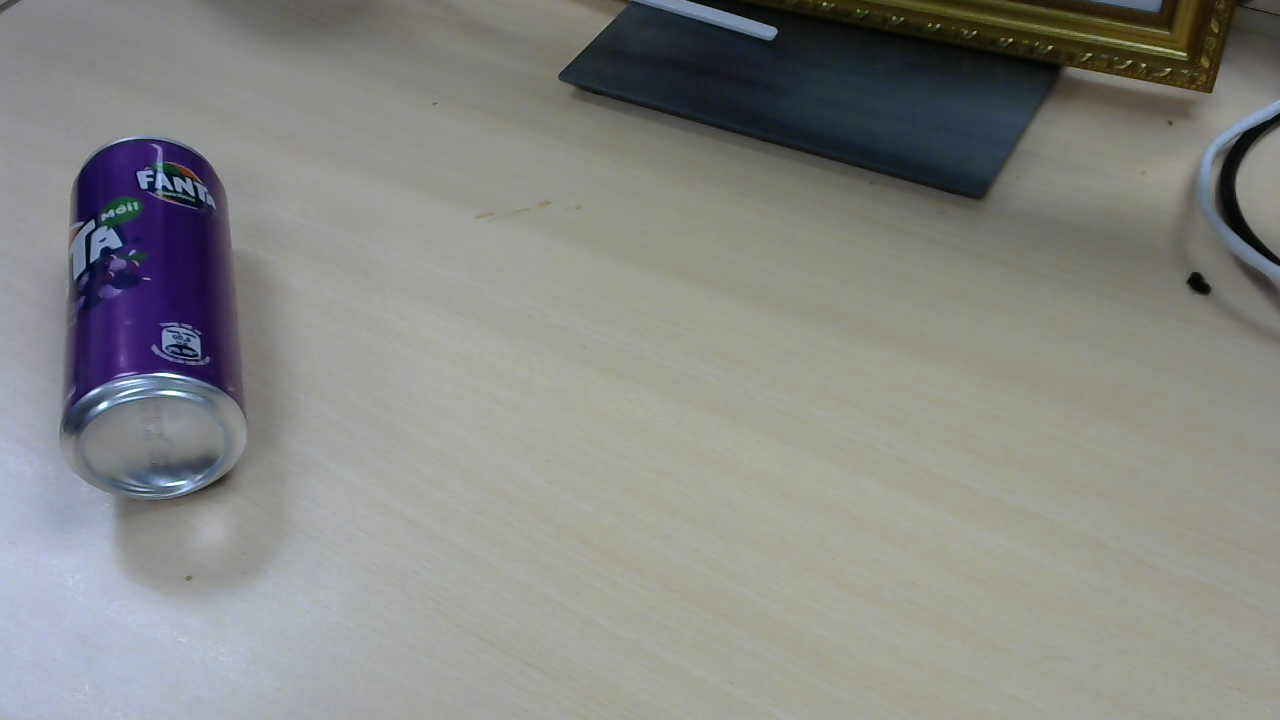Fanta: (64, 137, 253, 506)
